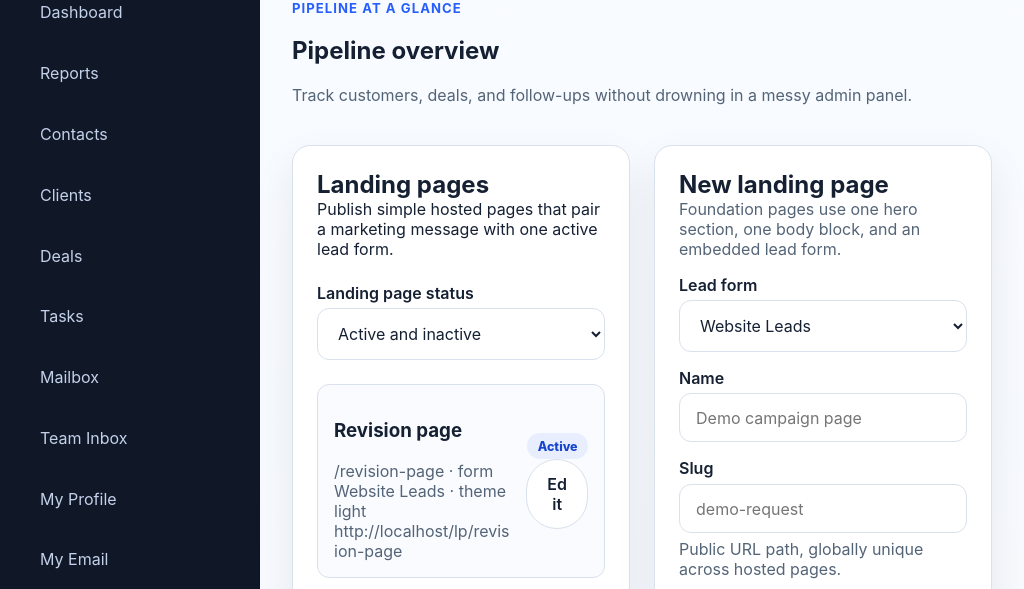
Test: settings landing pages route › sends the exact loaded revision when editing a landing page
Expected: the heading "Revision page" is shown, 334,419 -> 462,442
Click the button "Edit" at (557, 494), box 526,459 -> 588,528
(page scrolled)
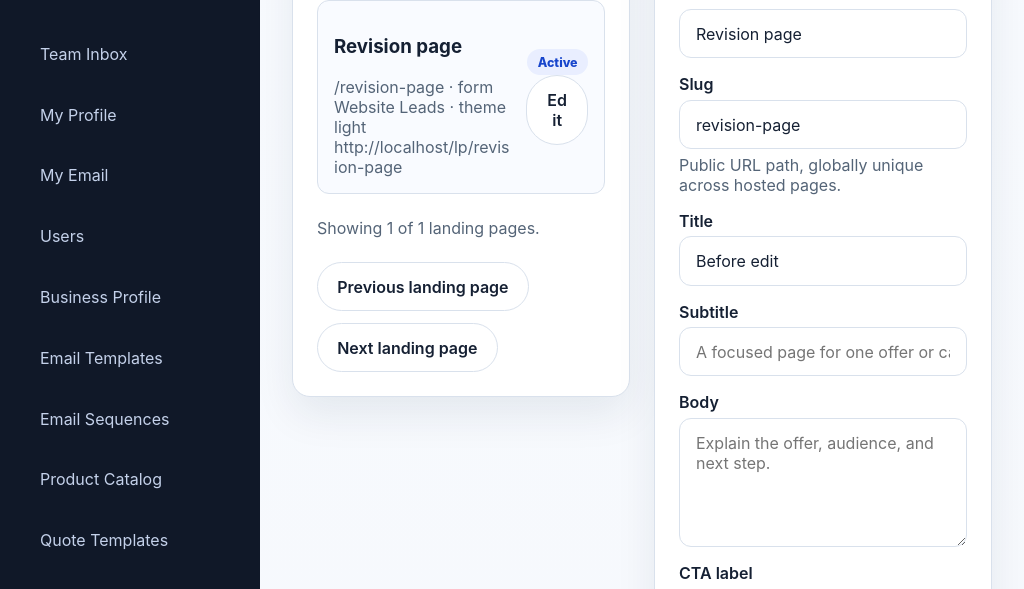
Replace the text in the field labelled "Title" with "After edit" at (823, 261), box 679,236 -> 967,286
(page scrolled)
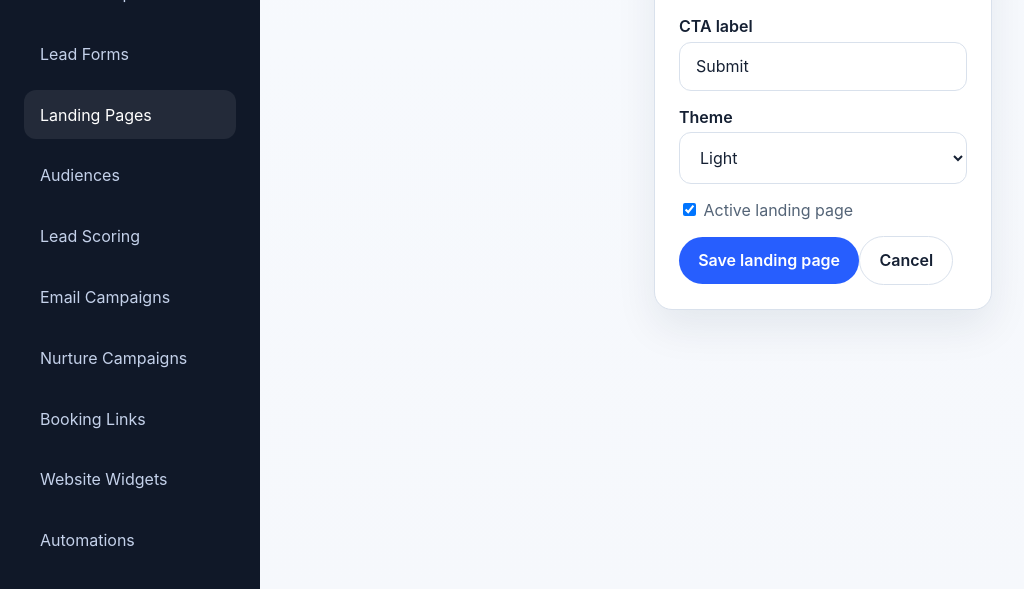
Click the button "Save landing page" at (769, 260), box 679,237 -> 859,284
(page scrolled)
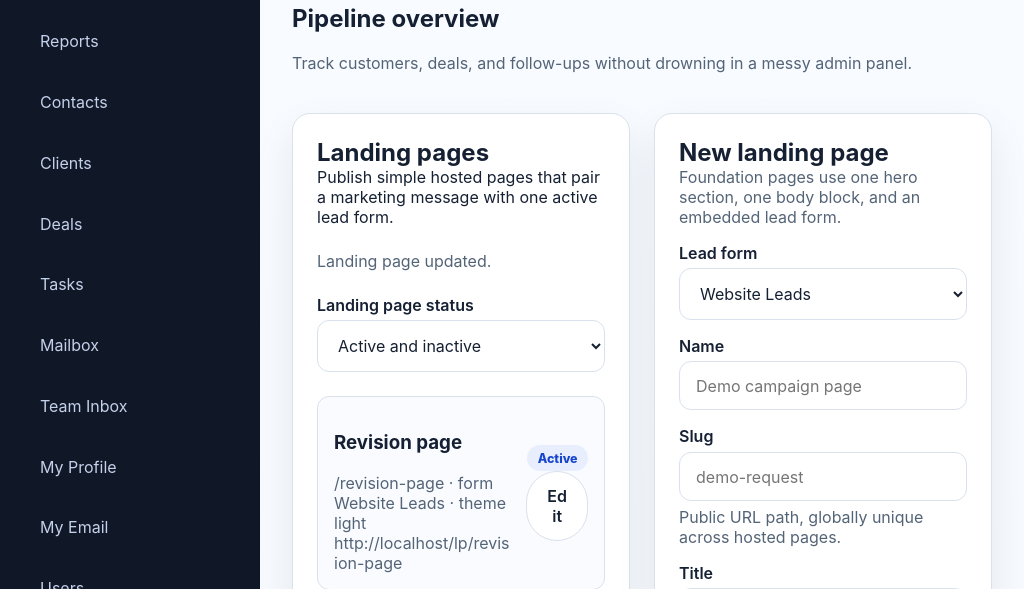
Expected: the text "Landing page updated." is shown, 317,251 -> 491,271
